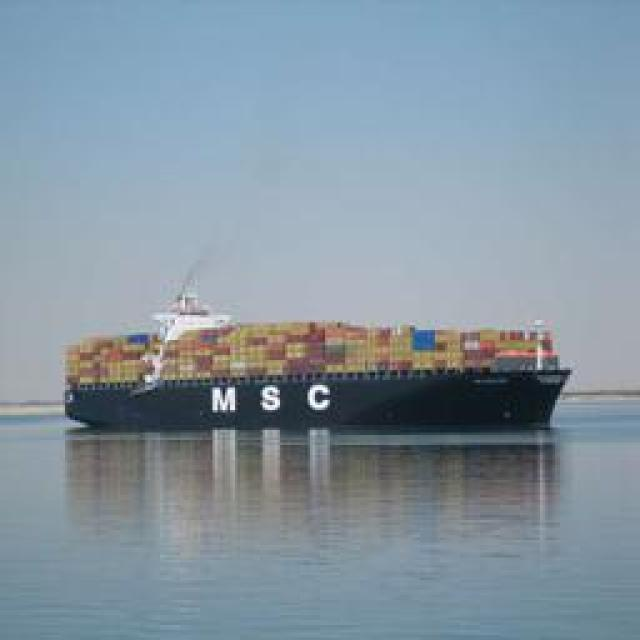CIV_Ship: (60, 261, 575, 434)
